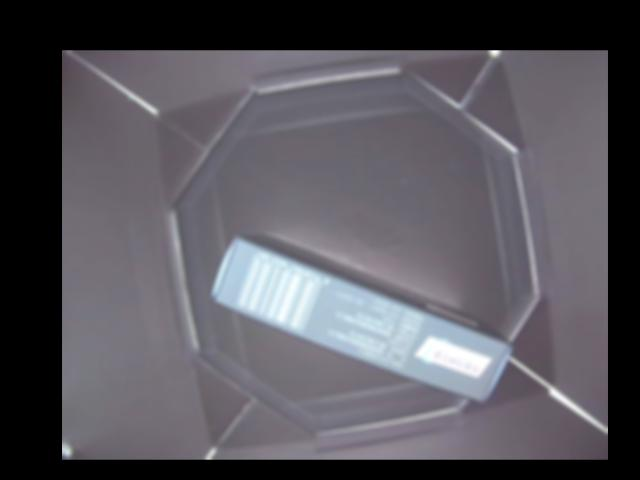Medicine: (211, 236, 513, 401)
